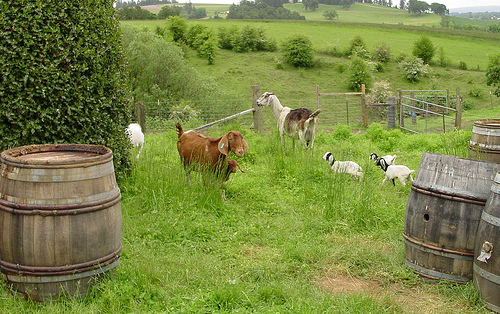goat: (175, 123, 248, 202), (256, 92, 321, 160), (321, 151, 364, 182), (374, 158, 416, 188), (218, 159, 247, 184), (367, 153, 398, 167)
